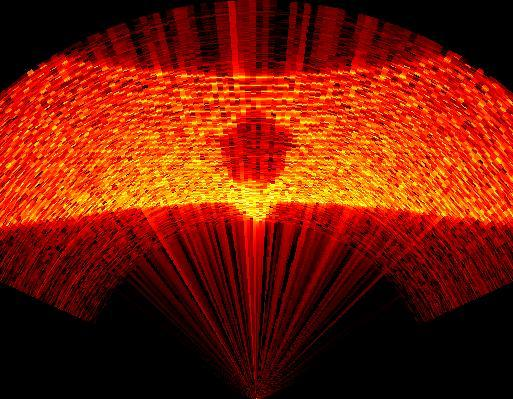box_crate: (218, 109, 294, 182)
